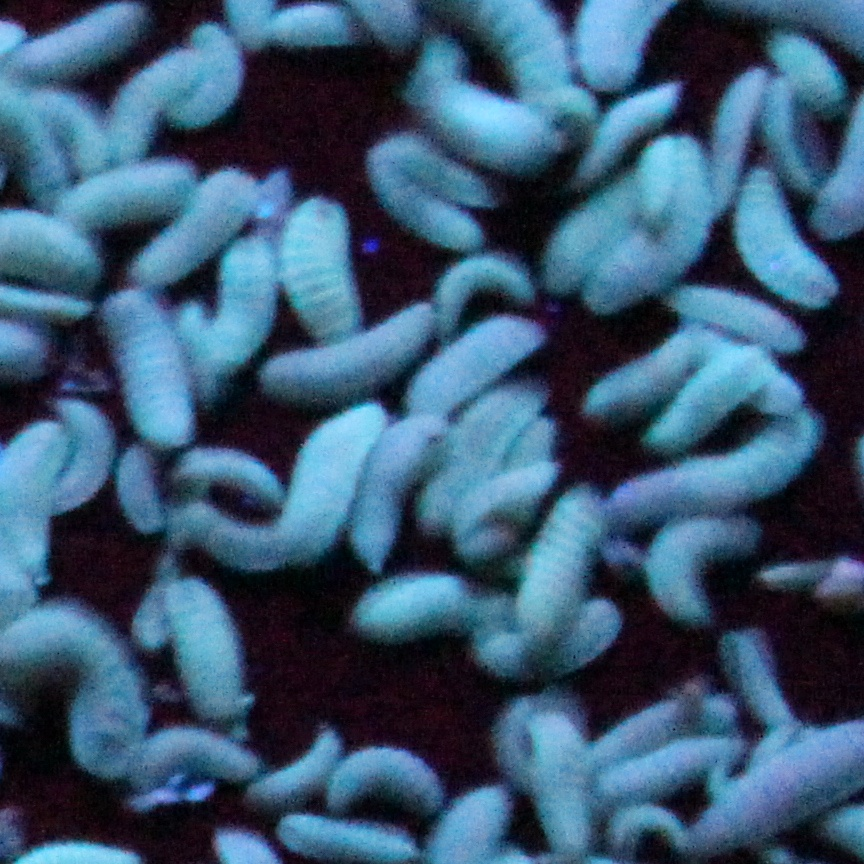larve: (23, 619, 133, 767), (152, 586, 259, 716), (99, 303, 190, 446), (639, 520, 760, 623), (515, 497, 607, 627), (637, 449, 809, 509), (286, 413, 356, 559), (287, 190, 354, 340), (16, 9, 157, 63), (426, 85, 539, 152), (53, 165, 197, 215), (710, 66, 757, 216), (533, 728, 589, 850), (214, 253, 274, 357), (743, 220, 823, 292), (769, 100, 827, 197), (271, 343, 374, 397), (344, 582, 466, 627), (179, 453, 279, 507), (143, 730, 257, 776), (111, 449, 169, 537), (727, 639, 790, 718), (431, 266, 530, 315), (427, 335, 511, 390), (589, 352, 667, 409), (363, 462, 403, 566), (117, 70, 167, 153), (19, 430, 46, 580), (549, 212, 601, 286), (339, 755, 430, 795), (779, 32, 840, 89), (681, 297, 786, 330), (401, 196, 470, 246), (680, 377, 736, 437), (610, 240, 671, 295), (60, 90, 107, 160), (456, 399, 526, 446), (421, 467, 480, 519), (193, 39, 230, 119), (606, 752, 683, 789), (204, 177, 247, 233), (69, 402, 93, 499), (647, 138, 670, 213), (301, 15, 367, 40)
